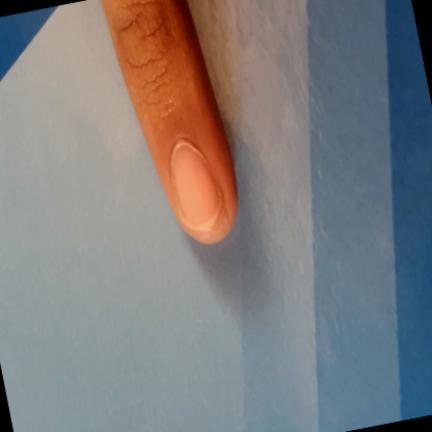Nail: (170, 141, 222, 232)
